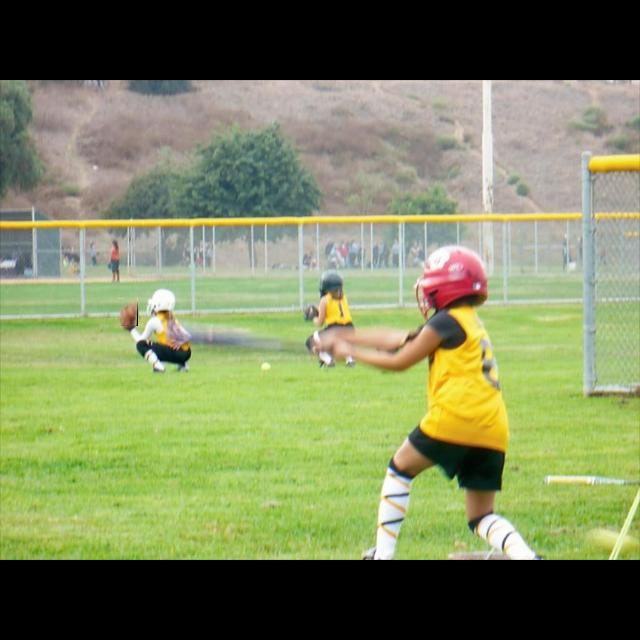Football: (118, 298, 138, 326)
